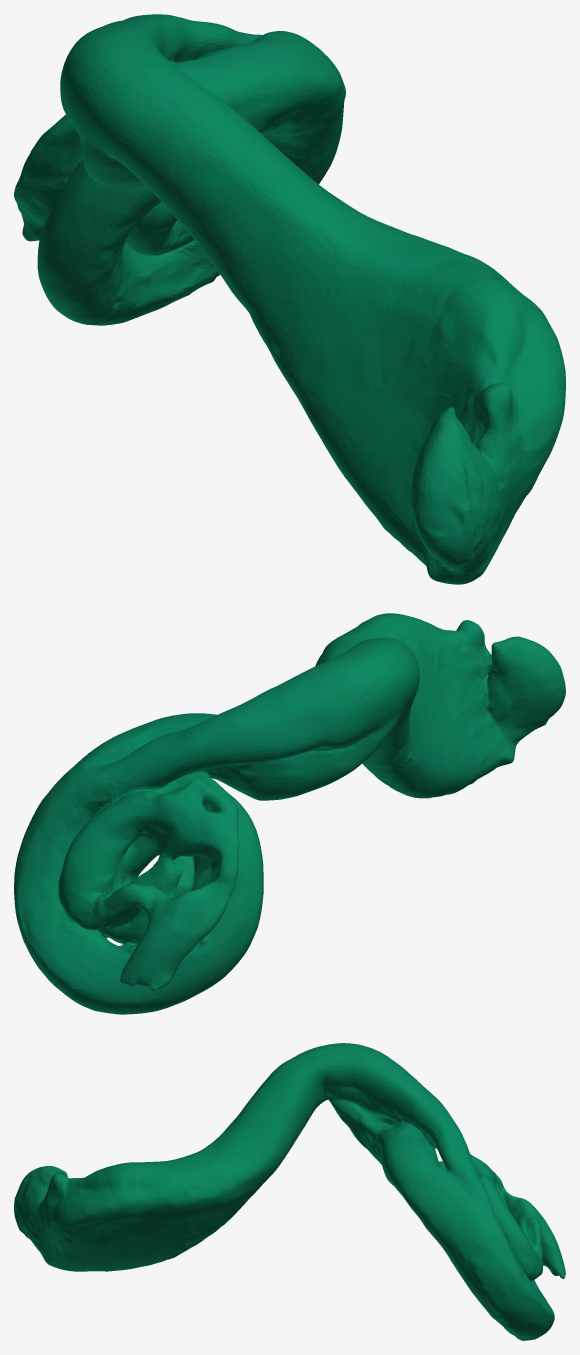
File: gren-cobra.glb
3 views of the same model, one above another, from view 1: azimuth 30°, elevation 25°; view 2: azimuth 150°, elevation 25°; view 3: azimuth 270°, elevation 25° (orthographic). The views are drawn at different scales.
Visible parts, largest first — view 1: gren cobra_textured.obj; view 2: gren cobra_textured.obj; view 3: gren cobra_textured.obj.
Boxes of the visible parts, left/top/right/bottom form: gren cobra_textured.obj: left=14, top=14, right=565, bottom=584; gren cobra_textured.obj: left=14, top=613, right=565, bottom=1014; gren cobra_textured.obj: left=14, top=1043, right=565, bottom=1340.
Bounding box in the file's own units: 0.8896 × 0.9376 × 1.99.
Materials: 1 (1 with a texture image).
